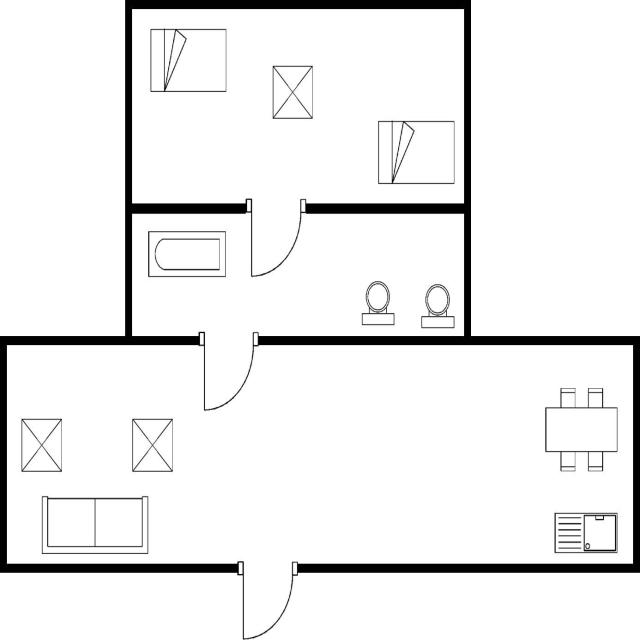bed: (372, 115, 457, 187), (147, 22, 229, 96)
coffee_table: (17, 413, 65, 475), (129, 414, 175, 475), (269, 62, 315, 122)
dining_table: (540, 383, 620, 475)
large_sink: (416, 277, 456, 331), (360, 274, 398, 328)
large_sofa: (37, 490, 152, 558)
sink: (549, 506, 620, 560)
tub: (146, 227, 230, 280)
